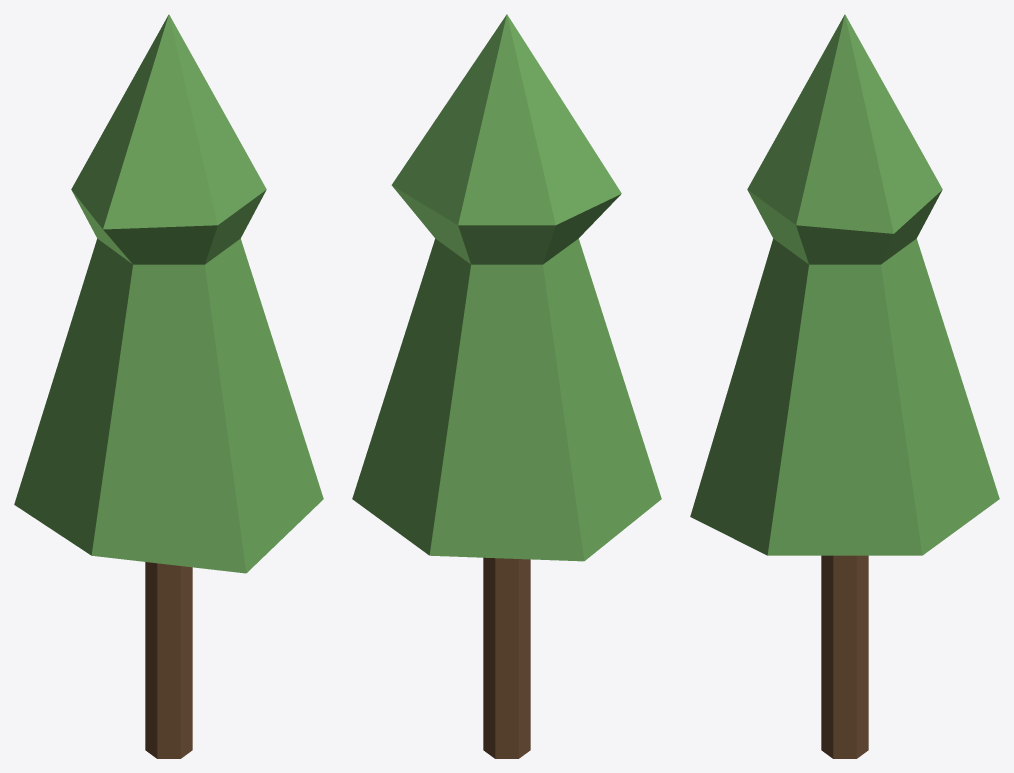
File: Environment_Objects_Tree_02.fbx
3 renders of one model, left to right at view 1: azimuth 30°, elevation 25°; view 2: azimuth 150°, elevation 25°; view 3: azimuth 270°, elevation 25°, orthographic.
Parts seen in each view (by area): view 1: Environment_Objects_Tree_02; view 2: Environment_Objects_Tree_02; view 3: Environment_Objects_Tree_02.
Part boxes in pixels (x1,y1,x2,y2): Environment_Objects_Tree_02: (14, 14, 323, 758); Environment_Objects_Tree_02: (352, 14, 661, 758); Environment_Objects_Tree_02: (690, 14, 999, 758).
Bounding box in the file's own units: 181 × 547 × 209.
